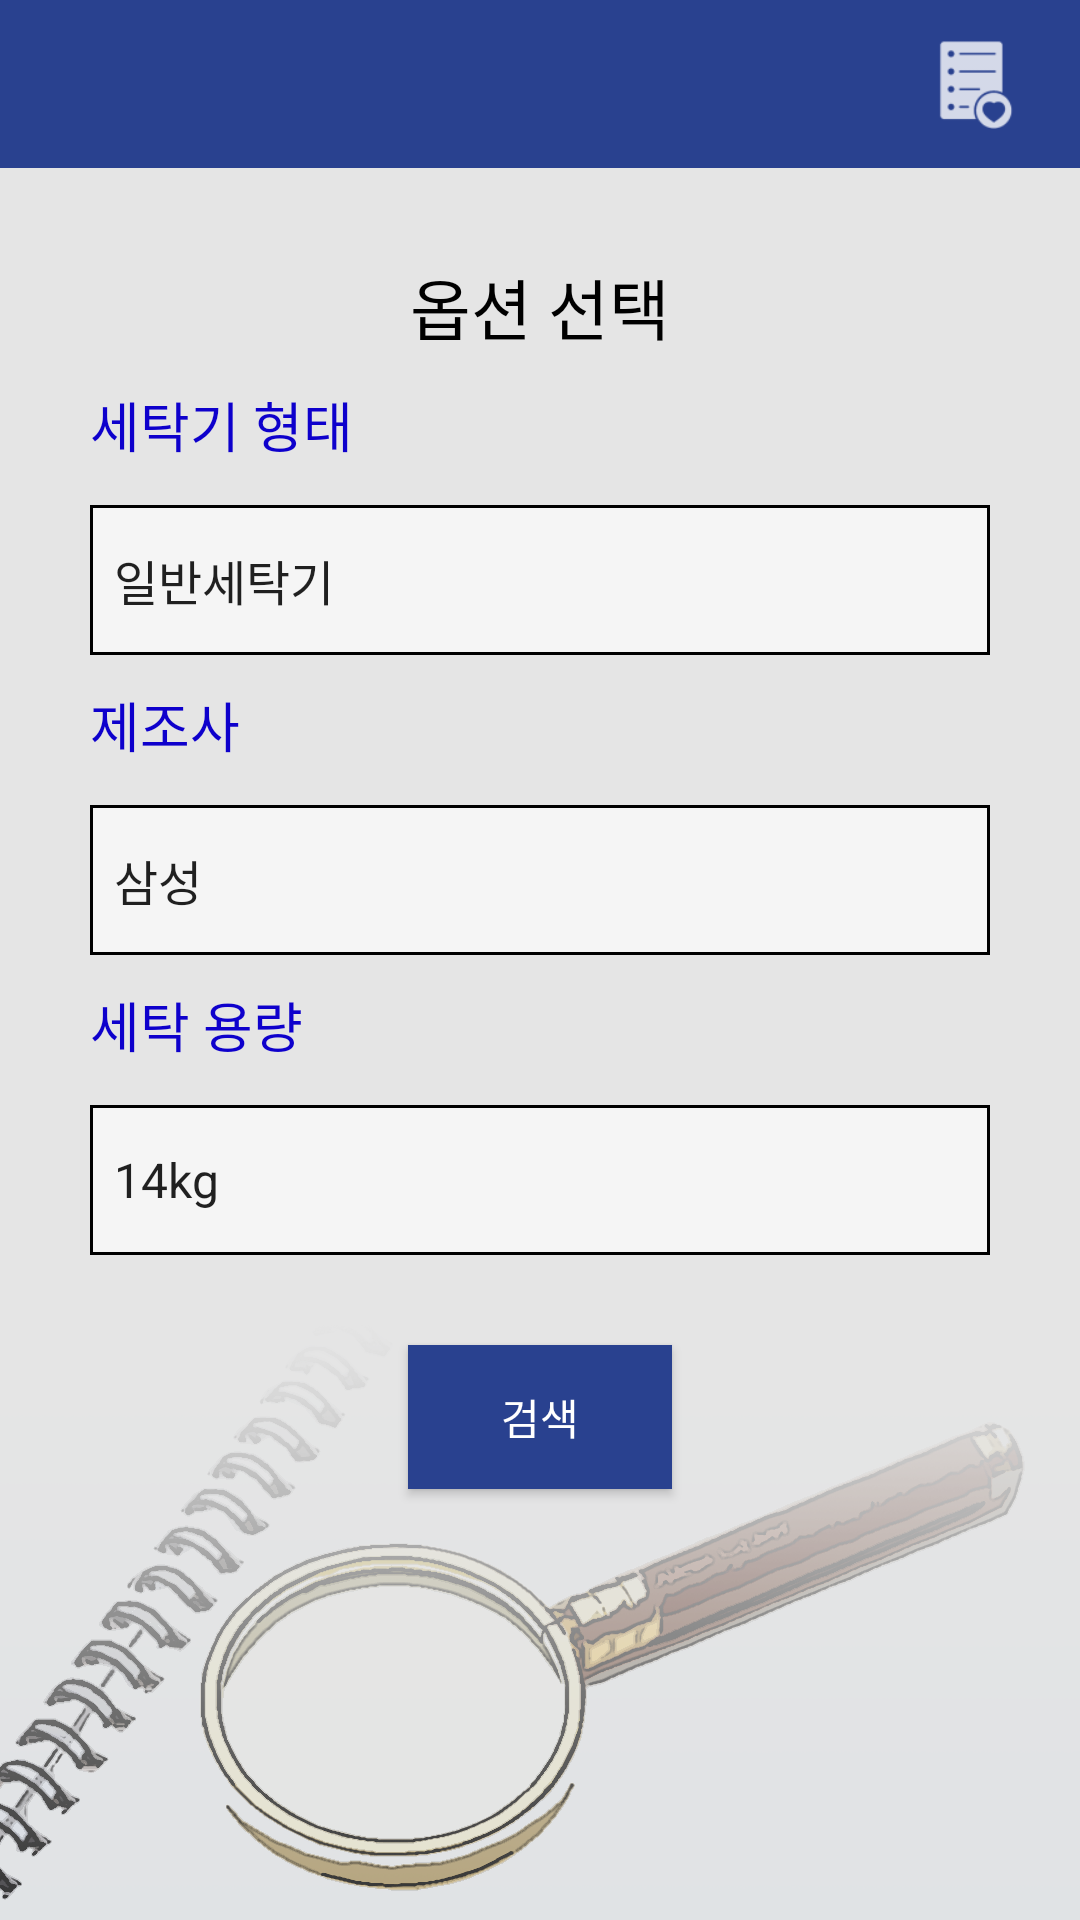

Screen size 1080 × 1920. Icon name, then its center in pixels as point (x, y):
wishlist: point (976, 85)
